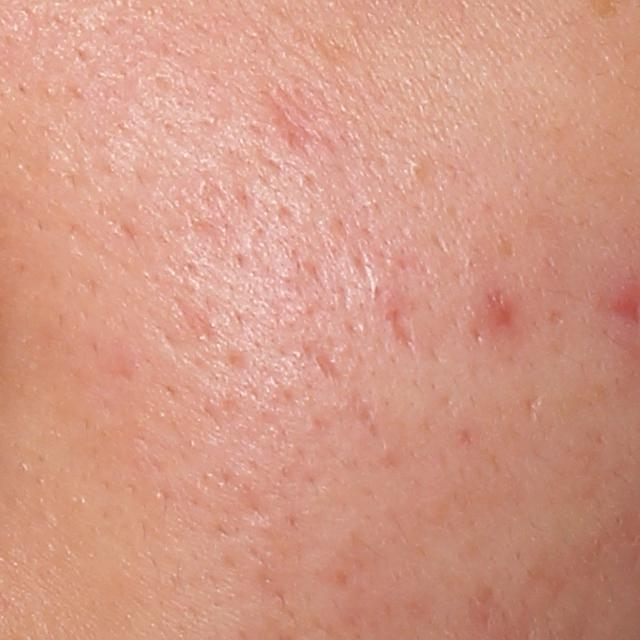atrophic_scar: (300, 335, 347, 388), (382, 300, 419, 359)
comedo: (404, 157, 425, 176)
papule: (483, 290, 517, 334)
